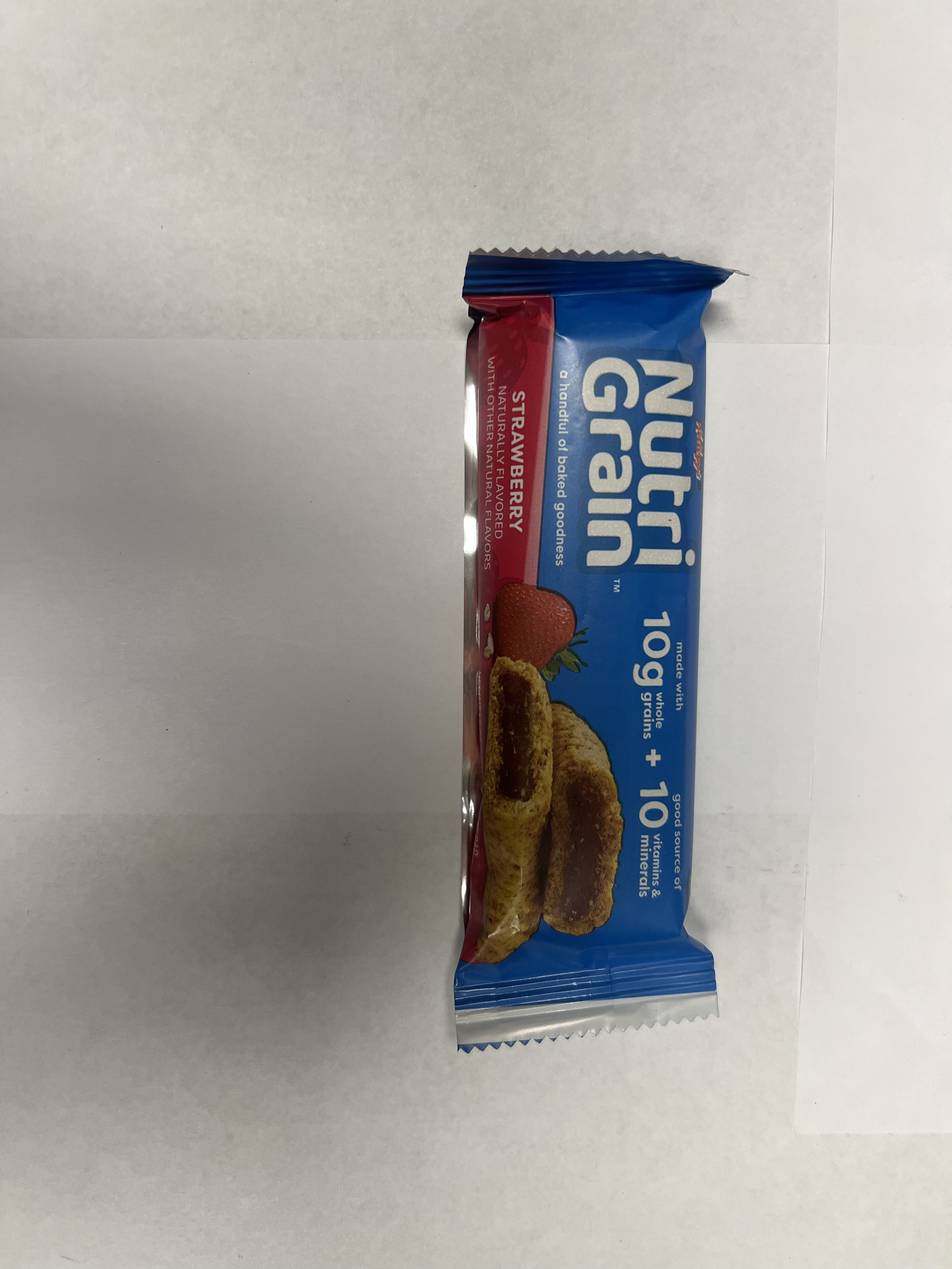packaged: (447, 244, 721, 1053)
